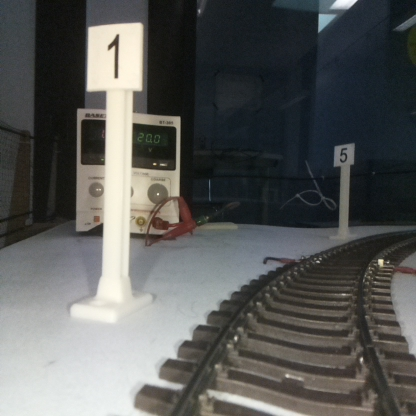white-info-1: (86, 23, 142, 316)
white-info-5: (334, 143, 353, 238)
